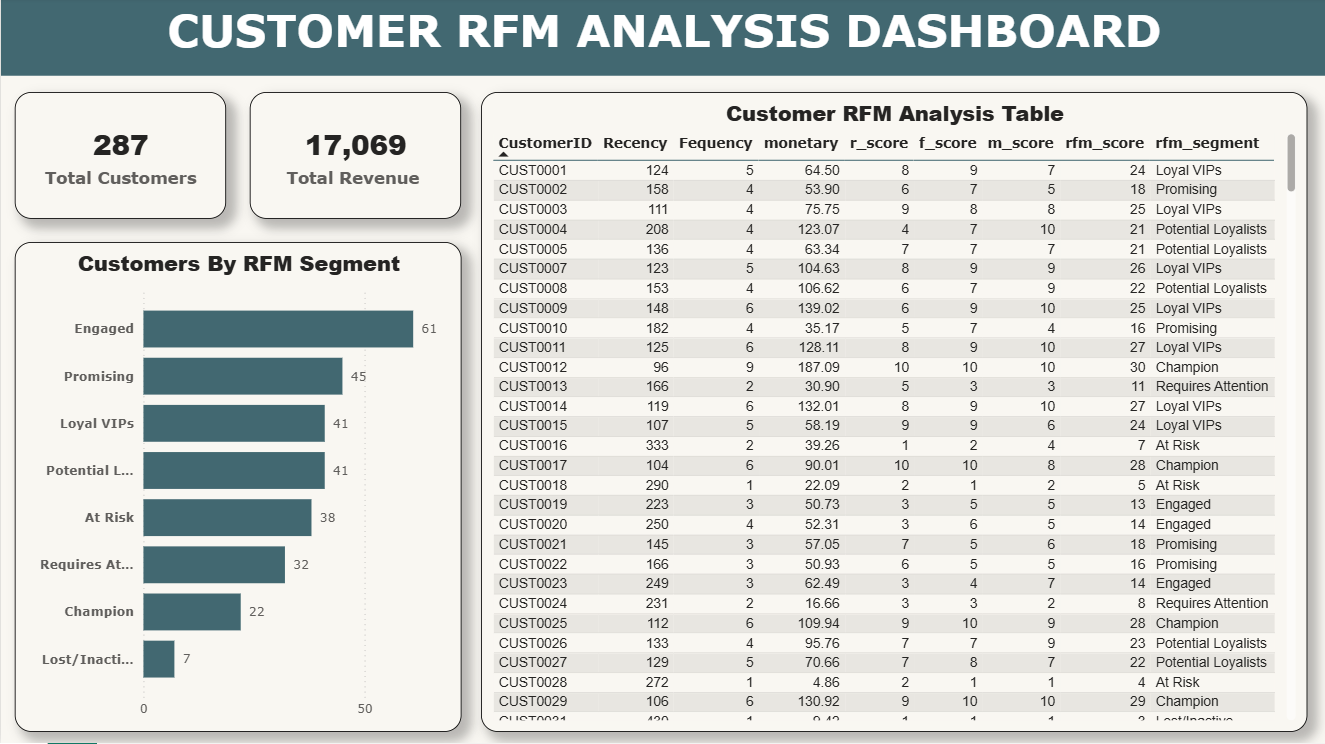

This screenshot's page, from the dashboard's own definition file:
{"tool":"powerbi","page":{"name":"Page 1","canvas":[1280,720],"ordinal":0},"visuals":[{"type":"tableEx","title":"Customer RFM Analysis Table","fields":{"Values":["Query1.customerid","Query1.recency","Query1.frequency","Query1.monetary","Query1.r_score","Query1.f_score","Query1.m_score","Query1.rfm_score","Query1.rfm_segment"]},"box":[463.3,91.7,797.5,617.7],"z":0},{"type":"actionButton","box":[0,0,100,40],"z":1000},{"type":"clusteredBarChart","title":"Customers By RFM Segment","fields":{"Category":["Query1.rfm_segment"],"Y":["CountNonNull(Query1.customerid)"]},"box":[13.4,236.1,430.9,473.2],"z":2000},{"type":"card","fields":{"Values":["Query1.toal_customers"]},"box":[13.4,91.8,204.1,122.7],"z":3000},{"type":"card","fields":{"Values":["Query1.Total Revenue Generated"]},"box":[240.2,91.8,204.1,122.7],"z":4000},{"type":"textbox","box":[0,0,1280.4,76.3],"z":5000}]}

Visuals, with their boxes in screenshot pixels (x1, y1, x2, y2), scaled from the page's 1280x720 canvas onto the 1325x744 screenshot:
"Customer RFM Analysis Table" tableEx: box=[480, 95, 1305, 733]
actionButton: box=[0, 0, 104, 41]
"Customers By RFM Segment" clusteredBarChart: box=[14, 244, 460, 733]
card - Query1.toal_customers: box=[14, 95, 225, 222]
card - Query1.Total Revenue Generated: box=[249, 95, 460, 222]
textbox: box=[0, 0, 1324, 79]
